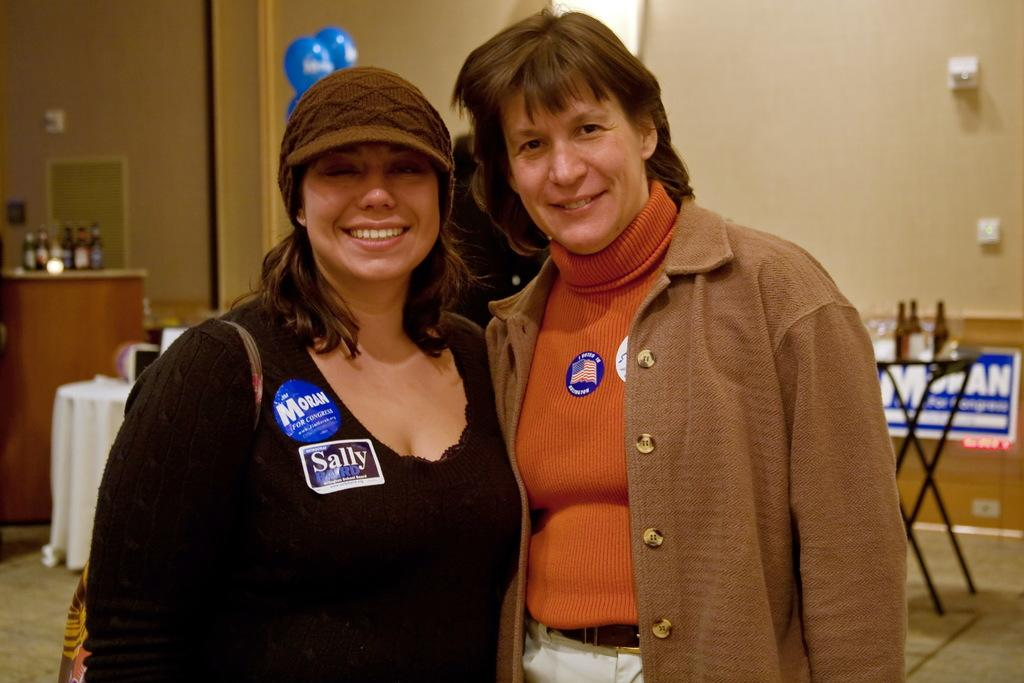Hat: (278, 64, 456, 235)
